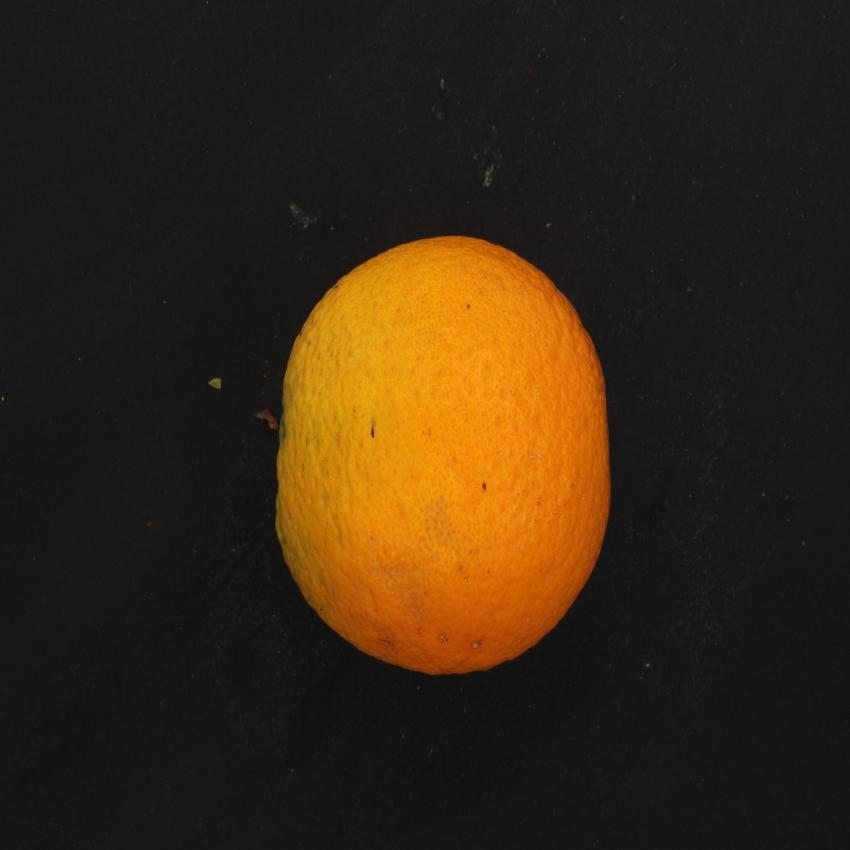Buen estado: (253, 229, 618, 692)
